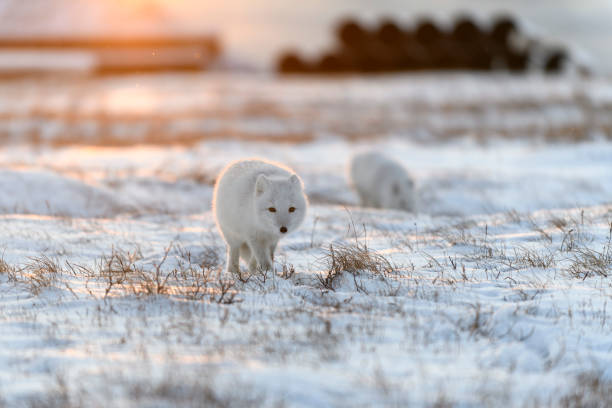arcticfox: (255, 174, 313, 242)
